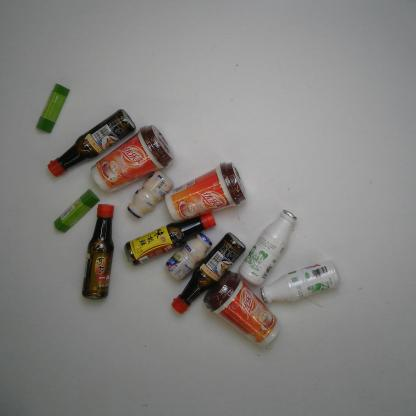Instant Drink: (201, 268, 283, 348), (89, 123, 175, 194), (163, 159, 247, 224)
Milk: (235, 208, 298, 287), (258, 257, 343, 305), (166, 230, 213, 281), (128, 170, 173, 218)
Seasoner: (45, 108, 141, 179), (171, 230, 247, 316), (120, 209, 218, 268), (76, 201, 118, 301)
Stationery: (51, 186, 103, 236), (32, 79, 71, 136)
